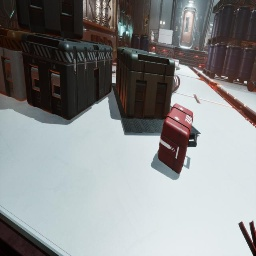0: (175, 62, 179, 67), (149, 52, 156, 54)
EmergencyPhone ,: (175, 25, 178, 31)
FireExtinguisher ]: (238, 220, 256, 256), (196, 72, 201, 78)
FirstAidBox ,: (158, 103, 197, 174), (198, 64, 206, 70)
NitrogenTank ,: (172, 75, 180, 93), (247, 81, 256, 91), (170, 58, 179, 63), (194, 46, 199, 50)
SafetySwitchPanel ,: (208, 22, 213, 36), (120, 26, 124, 38)
